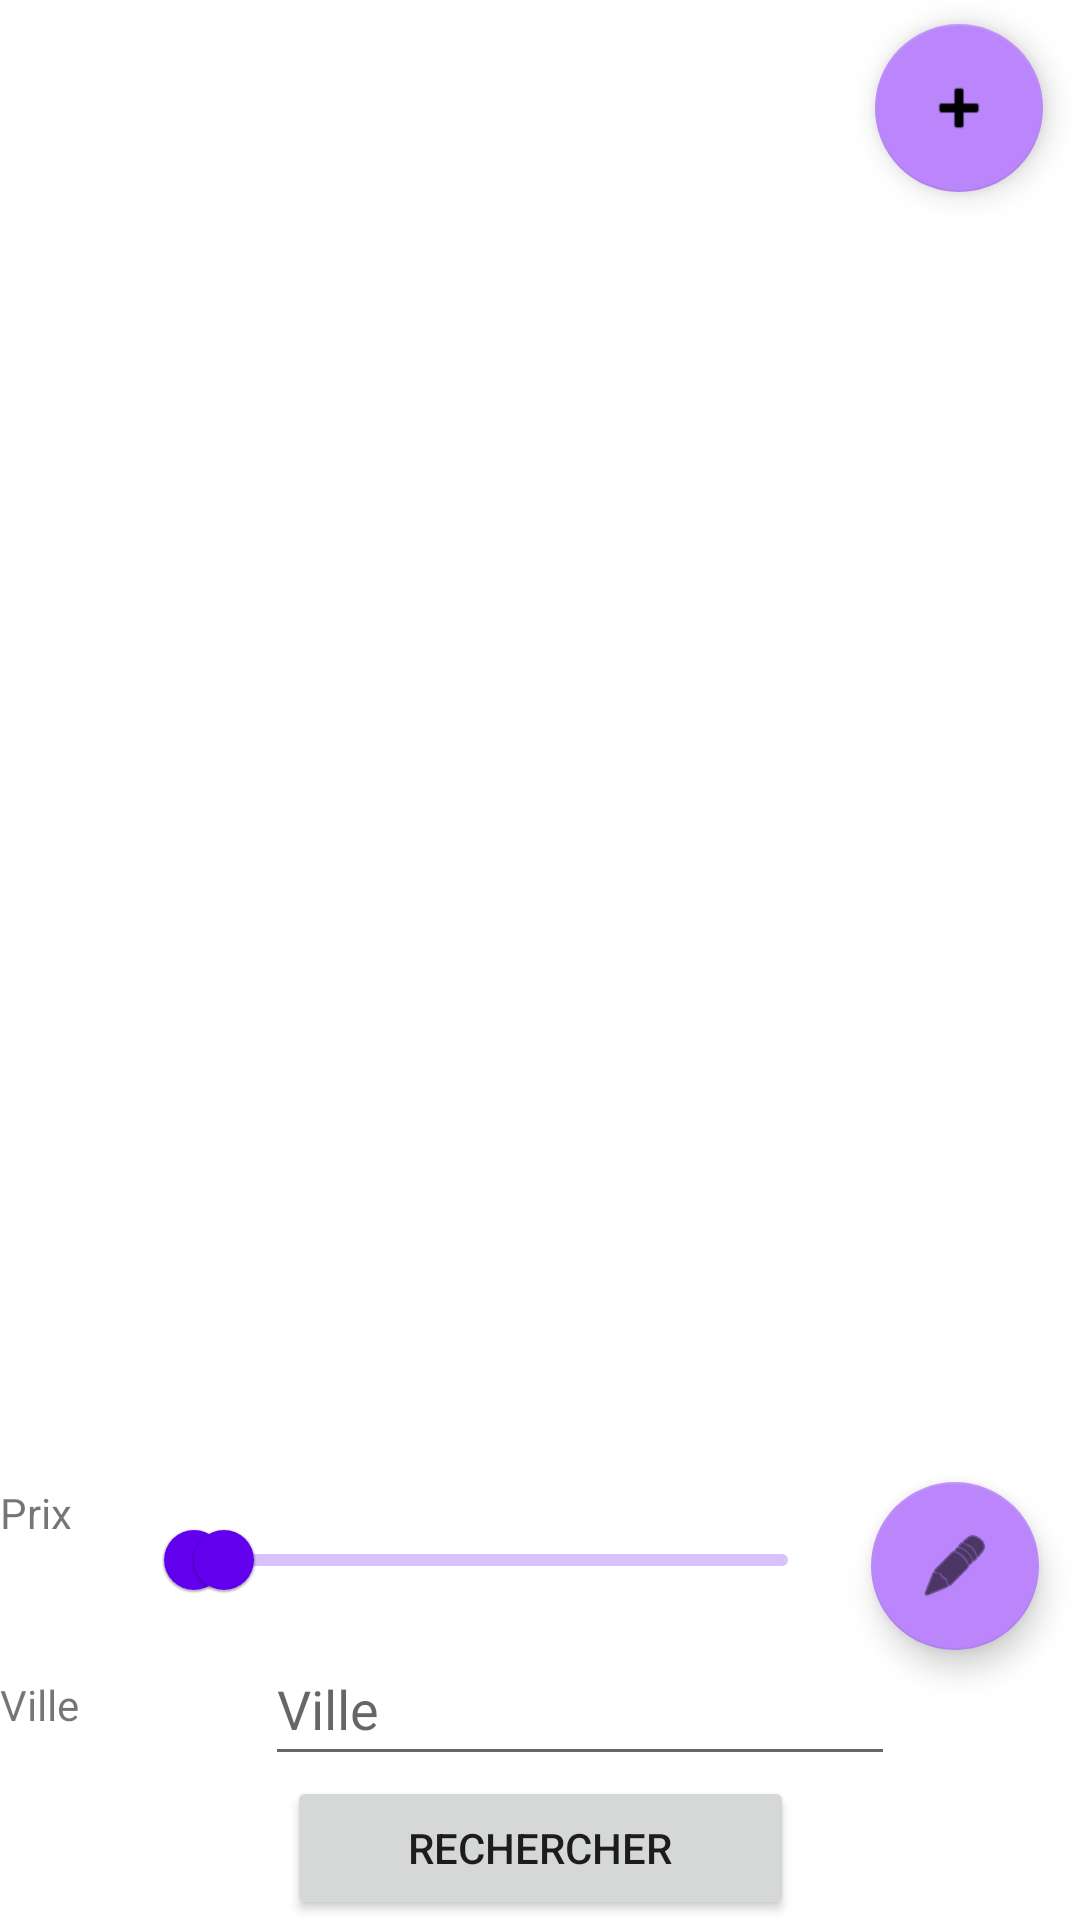

Screen size 1080 × 1920. Icon name, then its center in pixels as point (x, y):
add: point (959, 108)
edit: point (955, 1566)
